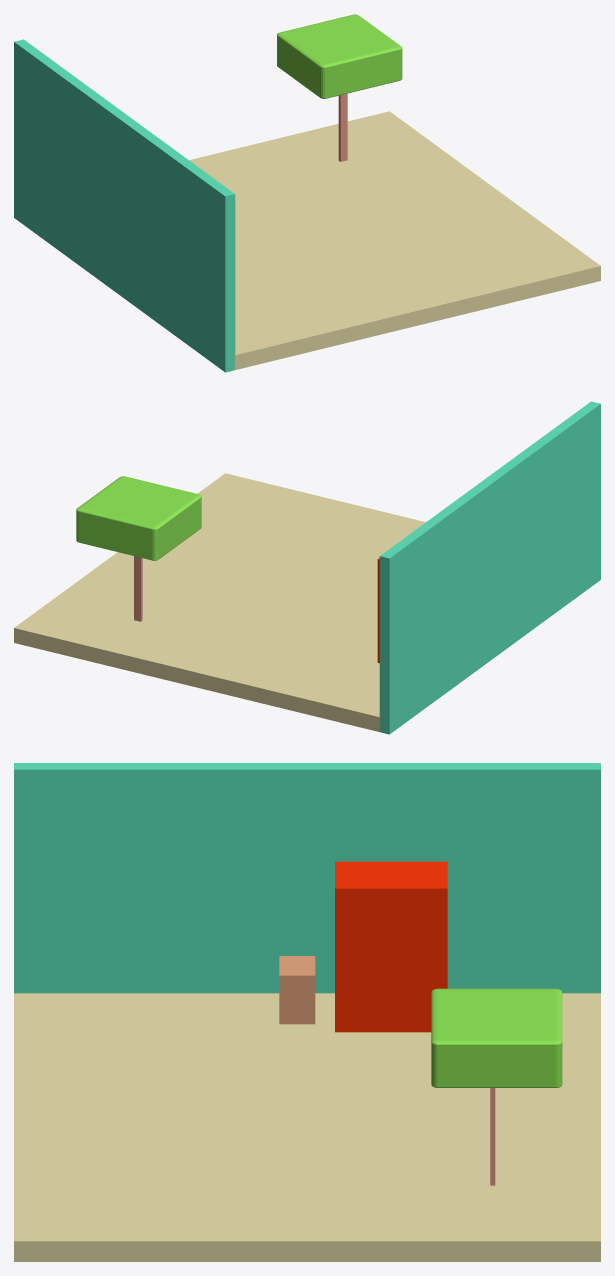
Rendered from scene-test-gltf.gltf.
3 renders of one model, top to bottom at view 1: azimuth 30°, elevation 25°; view 2: azimuth 150°, elevation 25°; view 3: azimuth 270°, elevation 25°, orthographic. The views are drawn at different scales.
Parts seen in each view (by area): view 1: Cube, Cube.001, Cube.005; view 2: Cube, Cube.001, Cube.005; view 3: Cube, Cube.001, Cube.003, Cube.005, Cube.002.
Part boxes in pixels (x1,y1,x2,y2): Cube: (189, 111, 600, 369); Cube.001: (14, 39, 235, 372); Cube.005: (277, 14, 402, 161); Cube: (14, 473, 425, 731); Cube.001: (379, 401, 600, 734); Cube.005: (76, 476, 201, 621); Cube: (14, 993, 600, 1261); Cube.001: (14, 763, 600, 993); Cube.003: (335, 861, 447, 1032); Cube.005: (431, 988, 562, 1185); Cube.002: (279, 956, 315, 1024).
Bounding box in the file's own units: 2.05 × 0.919 × 2.
